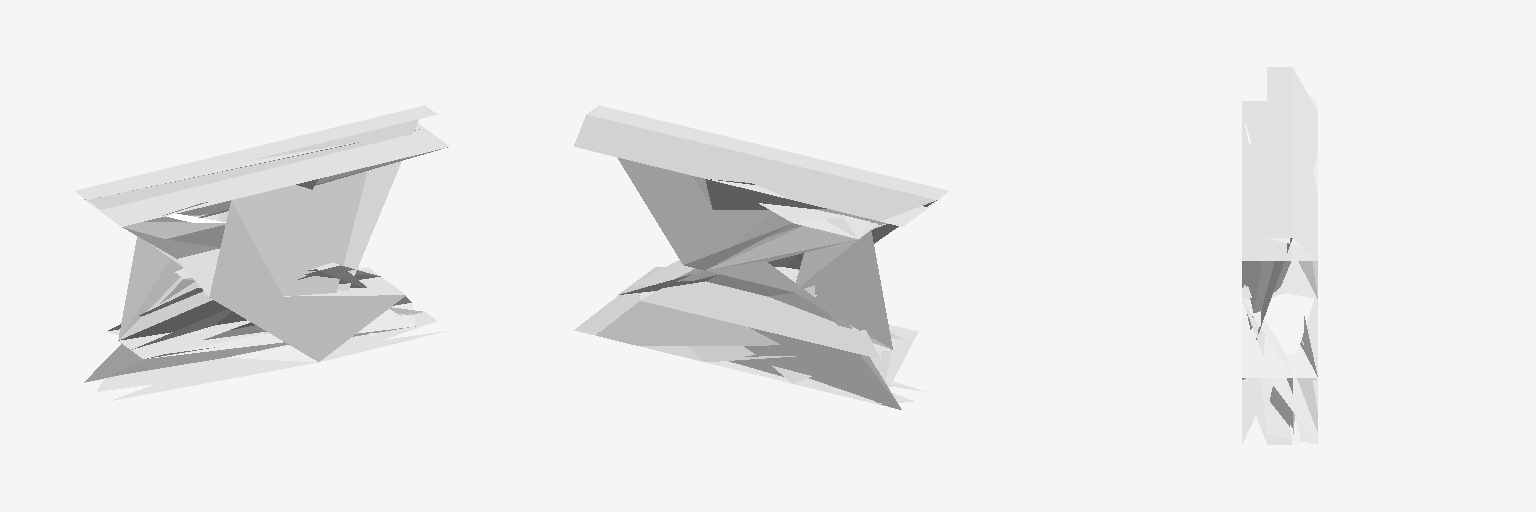
Rendered from red_spring_3.obj.
3 renders of one model, left to right at view 1: azimuth 30°, elevation 25°; view 2: azimuth 150°, elevation 25°; view 3: azimuth 270°, elevation 25°, orthographic.
Bounding box in the file's own units: 16 × 9 × 3.